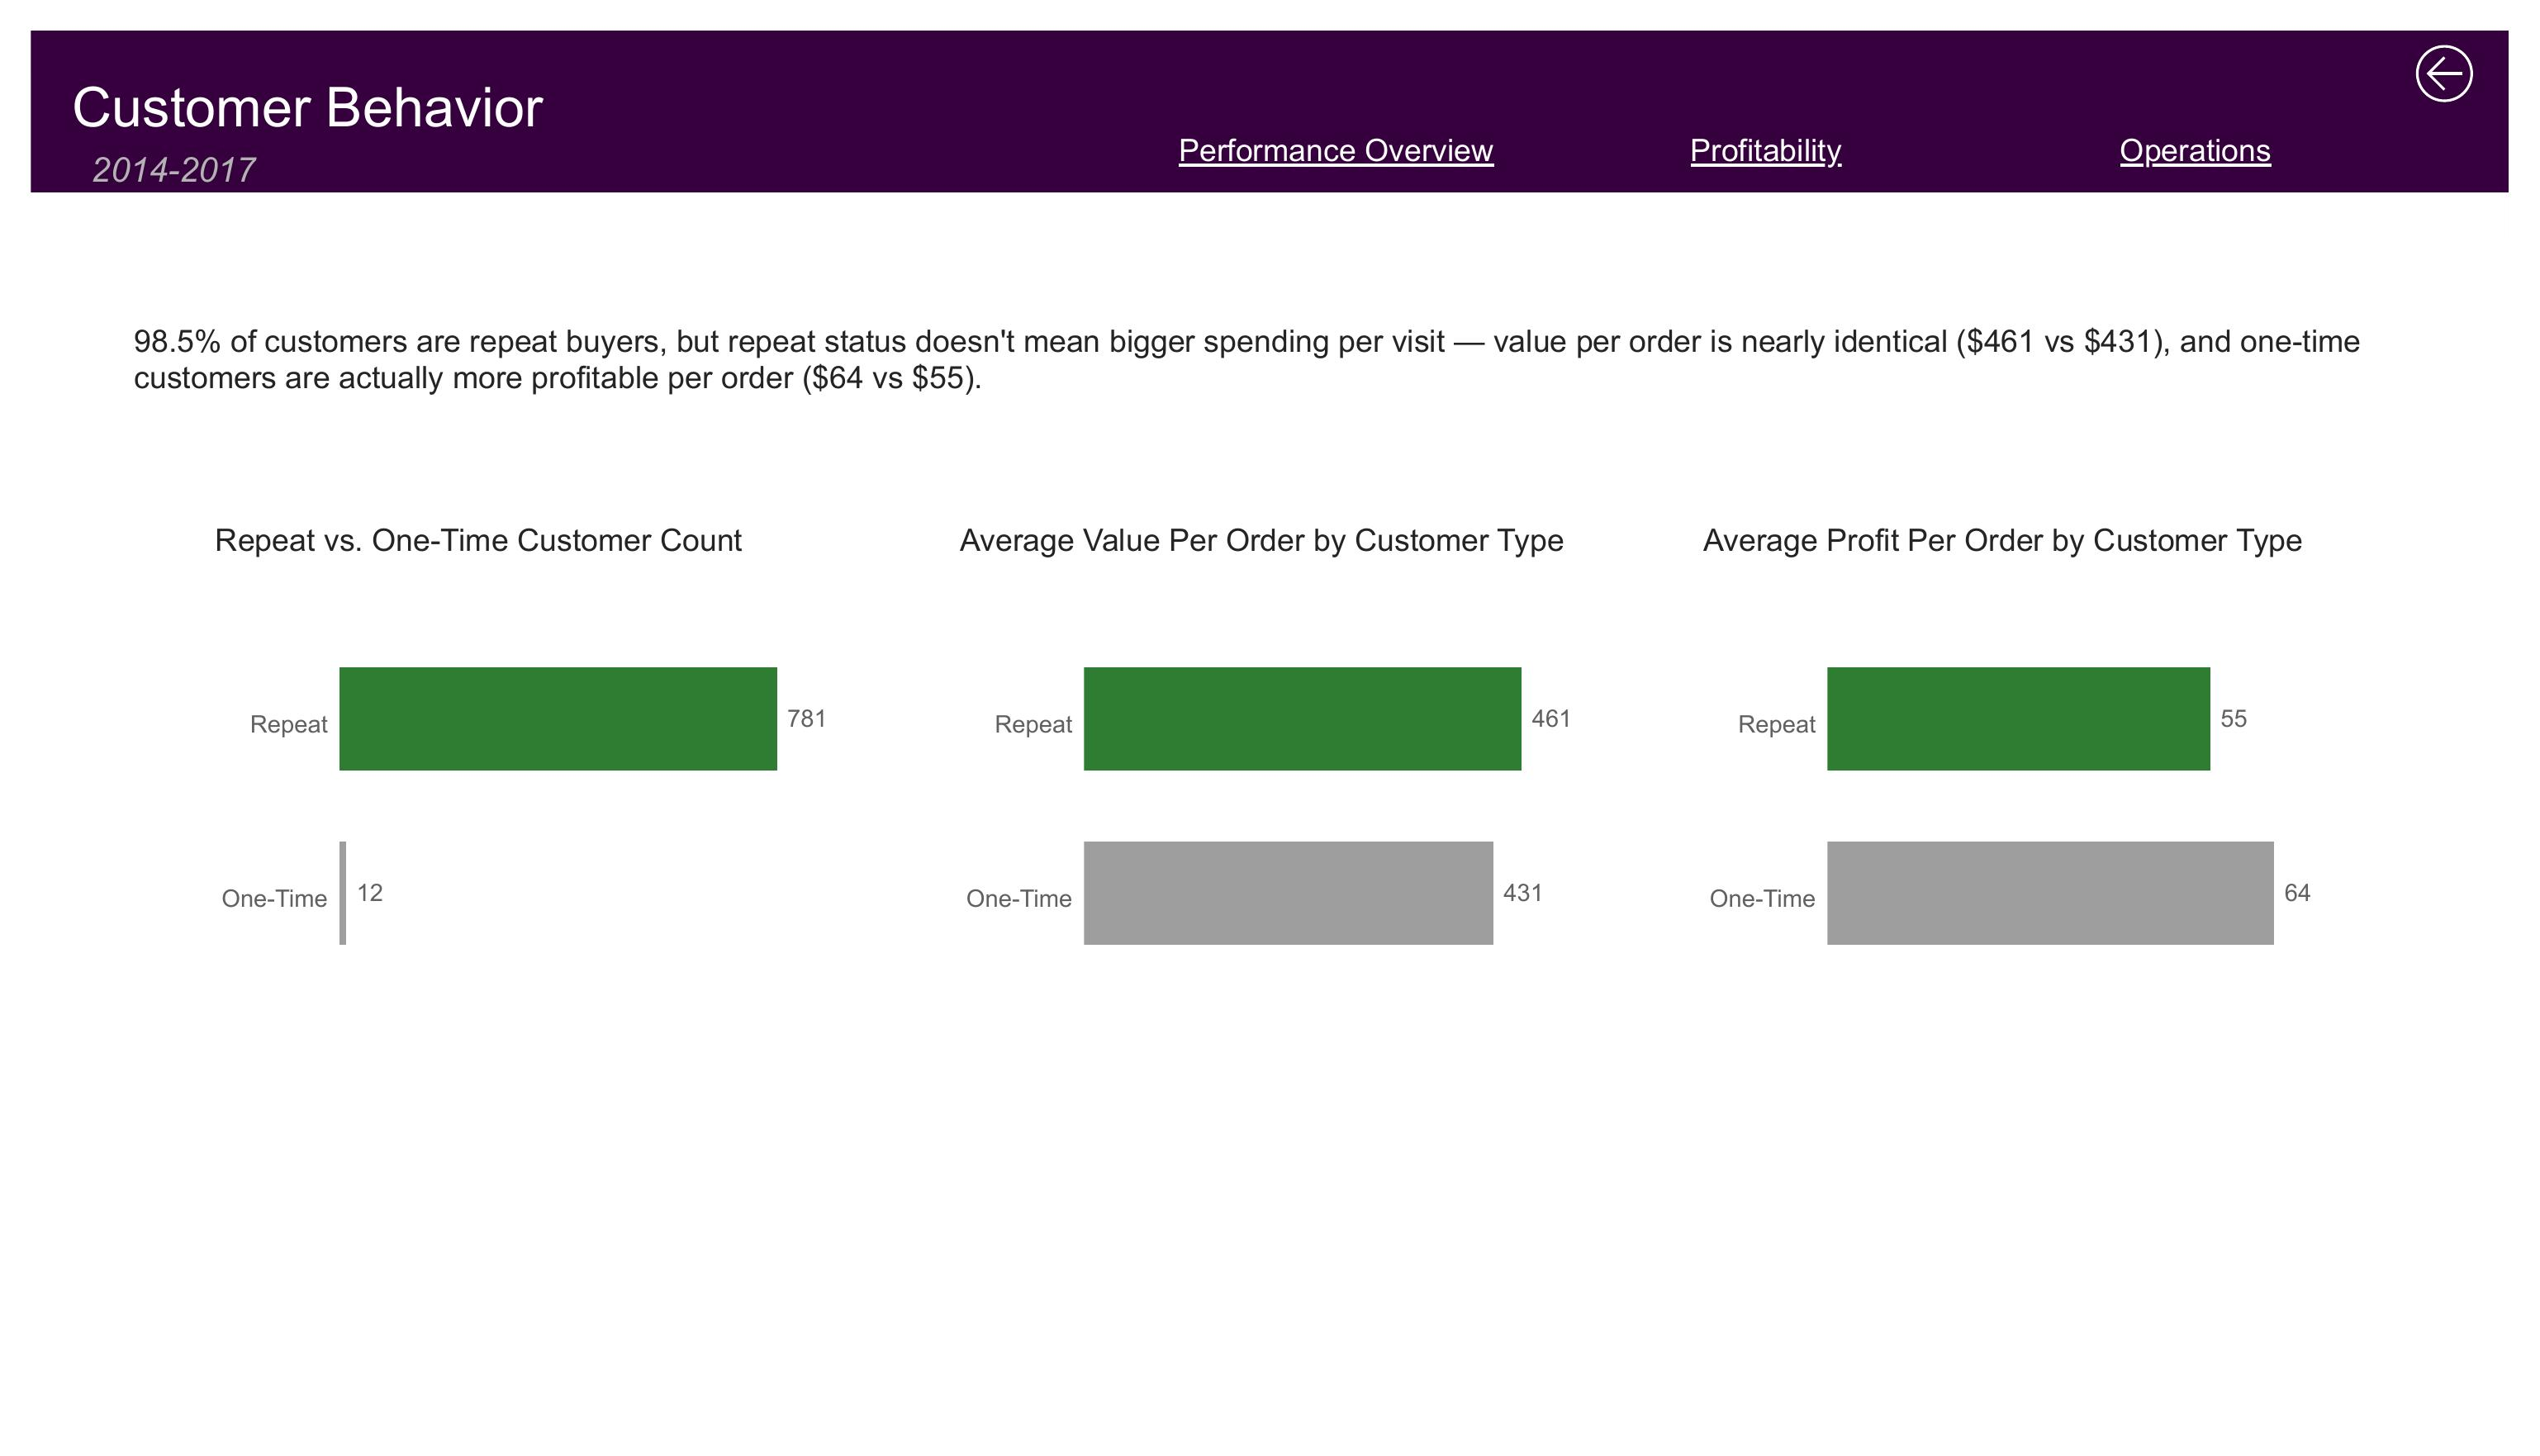

What the dashboard file says about the page in this screenshot:
{"tool":"powerbi","page":{"name":"Customer_Behavior","canvas":[1920,1080],"ordinal":4},"visuals":[{"type":"shape","box":[0,0,1920.2,125.2],"z":0},{"type":"textbox","box":[31.7,35.1,531,58.4],"z":1000},{"type":"barChart","title":"Repeat vs. One-Time Customer Count","fields":{"Y":["CountNonNull(dim_customers.customer_id)"],"Category":["dim_customers.Customer Type"]},"box":[127.3,367.3,507,430],"z":2000},{"type":"barChart","title":"Average Value Per Order by Customer Type","fields":{"Y":["dim_customers.Avg_Value_Per_Order"],"Category":["dim_customers.Customer Type"]},"box":[703.6,367.3,507,430],"z":3000},{"type":"barChart","title":"Average Profit Per Order by Customer Type","fields":{"Y":["dim_customers.Avg_Profit_Per_Order"],"Category":["dim_customers.Customer Type"]},"box":[1280,367.3,507,430],"z":4000},{"type":"textbox","box":[47.3,92.7,190.9,47.3],"z":5000},{"type":"textbox","box":[80,227.3,1770.9,92.7],"z":6000},{"type":"shape","box":[845.5,60,332.7,65.5],"z":7000},{"type":"shape","box":[1178.2,60,332.7,65.5],"z":8000},{"type":"shape","box":[1510.9,60,332.7,65.5],"z":9000},{"type":"actionButton","box":[1820,0,100,65],"z":9001}]}

Visuals, with their boxes on the page's 1920x1080 design canvas (x1, y1, x2, y2). These are canvas units, not pixel positions in the 2540x1456 screenshot, which may show the page scaled, cropped or inside an application window:
shape: rect(0, 0, 1920, 125)
textbox: rect(32, 35, 563, 94)
"Repeat vs. One-Time Customer Count" barChart: rect(127, 367, 634, 797)
"Average Value Per Order by Customer Type" barChart: rect(704, 367, 1211, 797)
"Average Profit Per Order by Customer Type" barChart: rect(1280, 367, 1787, 797)
textbox: rect(47, 93, 238, 140)
textbox: rect(80, 227, 1851, 320)
shape: rect(846, 60, 1178, 126)
shape: rect(1178, 60, 1511, 126)
shape: rect(1511, 60, 1844, 126)
actionButton: rect(1820, 0, 1920, 65)
